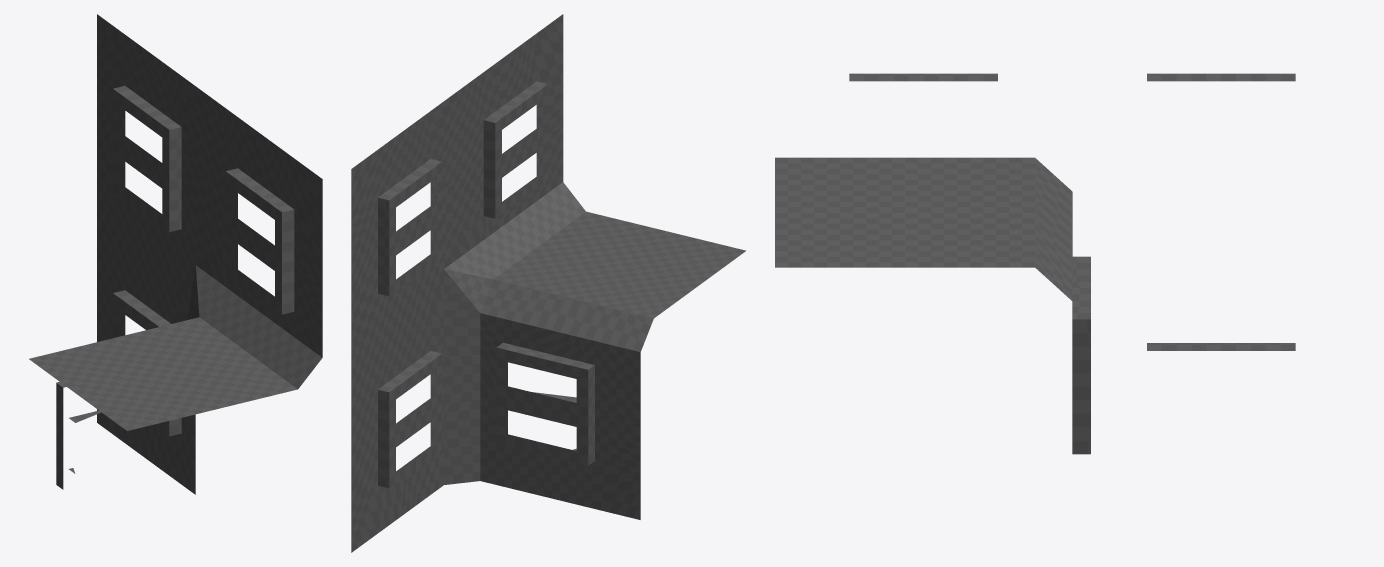
3 views of the same model, side by side, from view 1: azimuth 30°, elevation 25°; view 2: azimuth 150°, elevation 25°; view 3: azimuth 270°, elevation 25° (orthographic). The views are drawn at different scales.
Visible parts, largest first — view 1: 4; view 2: 4; view 3: 4.
Part boxes in pixels (x1,y1,x2,y2): 4: (29, 14, 322, 494); 4: (351, 14, 745, 552); 4: (775, 73, 1295, 454).
Size of the model in its own units: 2 by 4 by 4.
2 materials, 2 textured.
